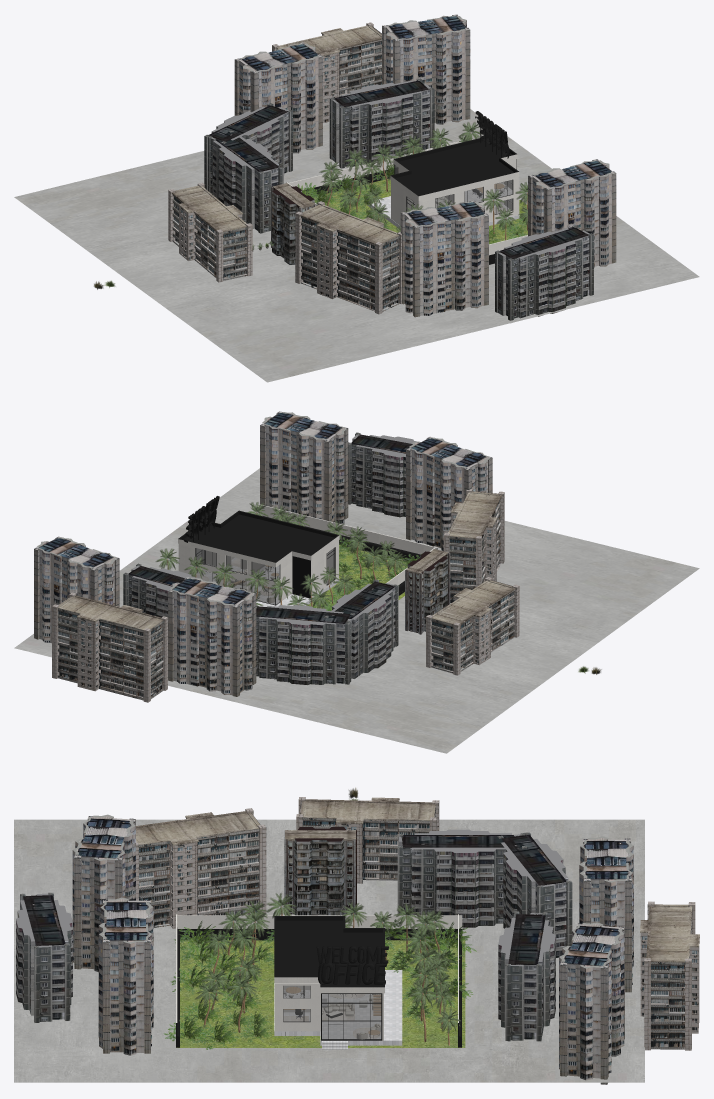
File: mini_office.glb
3 renders of one model, top to bottom at view 1: azimuth 30°, elevation 25°; view 2: azimuth 150°, elevation 25°; view 3: azimuth 270°, elevation 25°, orthographic. The views are drawn at different scales.
Parts seen in each view (by area): view 1: Plane.097, Plane.103, Cube.037, Plane.105, Plane.108, Plane.106, Plane.102, Plane.107, Cube.042, Plane.017, Plane.100, Cube.043 (+7 smaller); view 2: Plane.097, Cube.043, Plane.107, Plane.102, Plane.104, Plane.103, Cube.042, Plane.106, Plane.017, Cube.037, Plane.105, Plane.100 (+8 smaller); view 3: Plane.097, Cube.037, Plane.019, Plane.106, Plane.100, Plane.102, Cube.043, Plane.103, Plane.108, Plane.105, Cube.042, Plane.017 (+29 smaller).
Part boxes in pixels (x1,y1,x2,y2): Plane.097: (14,109,699,382); Plane.103: (400,200,488,317); Cube.037: (295,201,401,314); Plane.105: (495,225,593,320); Plane.108: (329,78,434,168); Plane.106: (382,14,470,124); Plane.102: (528,159,616,267); Plane.107: (234,42,322,153); Cube.042: (168,182,252,282); Plane.017: (390,137,519,200); Plane.100: (208,130,283,233); Cube.043: (272,22,381,122); Plane.097: (14,468,699,753); Cube.043: (52,592,167,702); Plane.107: (168,577,256,696); Plane.102: (260,411,348,524); Plane.104: (256,605,354,684); Plane.103: (406,436,492,550); Cube.042: (426,577,519,675); Plane.106: (34,536,119,643); Plane.017: (178,510,339,567); Cube.037: (443,489,504,602); Plane.105: (348,432,416,517); Plane.100: (323,579,398,682); Plane.097: (14,819,644,1082); Cube.037: (136,808,266,928); Plane.019: (176,936,465,1047); Plane.106: (559,922,624,1084); Plane.100: (397,829,526,927); Plane.102: (98,897,153,1055); Cube.043: (640,901,699,1050); Plane.103: (72,814,135,971); Plane.108: (498,911,555,1041); Plane.105: (16,892,72,1022); Cube.042: (296,797,439,883); Plane.017: (274,916,384,993).
Bounding box in the file's own units: 61.72 × 13.96 × 62.71.
Materials: 29 (26 with a texture image).
